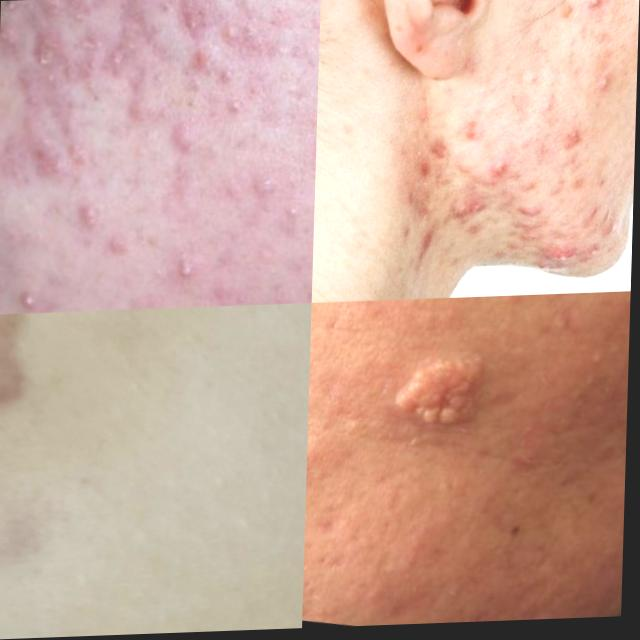6: (0, 312, 49, 455)
8: (71, 187, 109, 244), (162, 119, 203, 163), (31, 25, 64, 78)
9: (162, 247, 210, 302), (0, 274, 46, 314), (0, 15, 25, 58), (592, 70, 617, 111), (576, 0, 613, 27), (488, 162, 515, 189)
blackheads: (387, 340, 502, 443), (556, 123, 595, 165), (452, 199, 494, 230), (592, 215, 623, 249)
dark spot: (519, 228, 552, 260)
